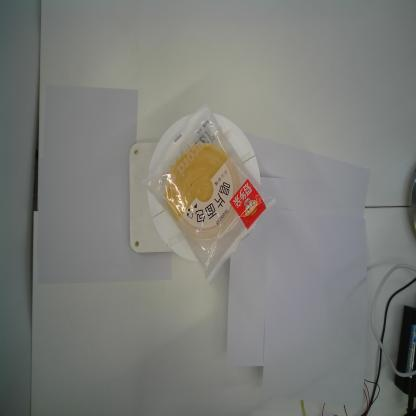Dessert: (137, 100, 277, 287)
